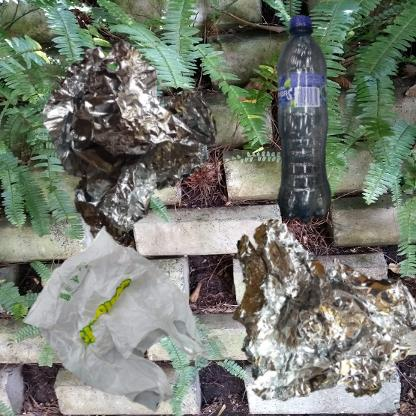aluminio: (10, 10, 282, 296), (213, 213, 416, 416)
bolsa: (10, 213, 218, 416)
botella: (213, 10, 416, 284)
